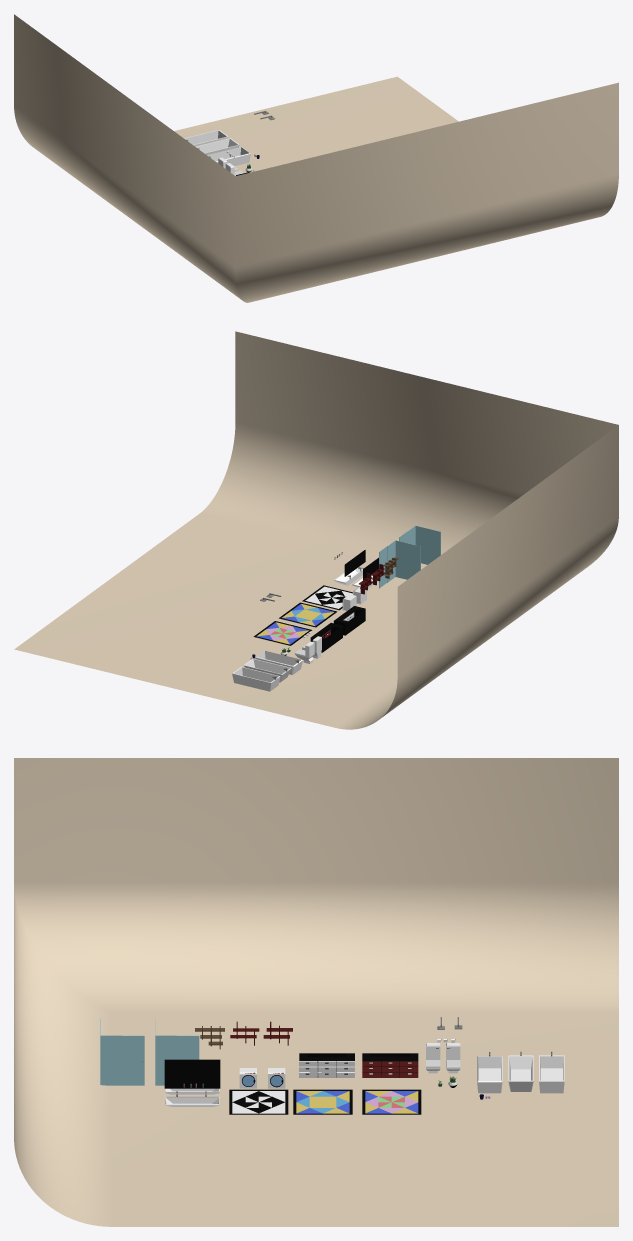
The model's file is Furniture (1).fbx.
The picture shows the model from 3 angles, top to bottom: view 1: azimuth 30°, elevation 25°; view 2: azimuth 150°, elevation 25°; view 3: azimuth 270°, elevation 25°; orthographic projection. The views are drawn at different scales.
Visible parts, largest first — view 1: Plane, bathtub.002, bathtub.1, bathtub; view 2: Plane, showercabinet, showercabinet.001, rug.001, rug, bathtub, rug.002, cupboard.001, mirror + sink, bathtub.002; view 3: Plane, showercabinet.001, mirror + sink, rug.001, rug, rug.002, cupboard handles, showercabinet, cupboard.001, mirror + sink.001, bathtub, bathtub.002 (+1 smaller).
Boxes of the visible parts, x1=… form: Plane: x1=14, y1=14, x2=618, y2=302; bathtub.002: x1=207, y1=147, x2=250, y2=166; bathtub.1: x1=195, y1=138, x2=239, y2=154; bathtub: x1=184, y1=130, x2=228, y2=146; Plane: x1=14, y1=331, x2=618, y2=729; showercabinet: x1=379, y1=540, x2=420, y2=588; showercabinet.001: x1=399, y1=525, x2=440, y2=564; rug.001: x1=278, y1=602, x2=337, y2=627; rug: x1=253, y1=621, x2=312, y2=645; bathtub: x1=232, y1=666, x2=280, y2=691; rug.002: x1=302, y1=585, x2=352, y2=610; cupboard.001: x1=333, y1=606, x2=365, y2=635; mirror + sink: x1=334, y1=550, x2=365, y2=585; bathtub.002: x1=255, y1=650, x2=302, y2=674; Plane: x1=14, y1=758, x2=618, y2=1226; showercabinet.001: x1=100, y1=1018, x2=144, y2=1085; mirror + sink: x1=164, y1=1071, x2=220, y2=1106; rug.001: x1=293, y1=1089, x2=352, y2=1114; rug: x1=362, y1=1089, x2=421, y2=1114; rug.002: x1=229, y1=1089, x2=288, y2=1114; cupboard handles: x1=362, y1=1053, x2=418, y2=1077; showercabinet: x1=155, y1=1019, x2=199, y2=1085; cupboard.001: x1=299, y1=1053, x2=354, y2=1077; mirror + sink.001: x1=164, y1=1059, x2=220, y2=1094; bathtub: x1=539, y1=1051, x2=564, y2=1093; bathtub.002: x1=477, y1=1052, x2=502, y2=1093.
Bounding box in the file's own units: 4584 × 1785 × 4584.
